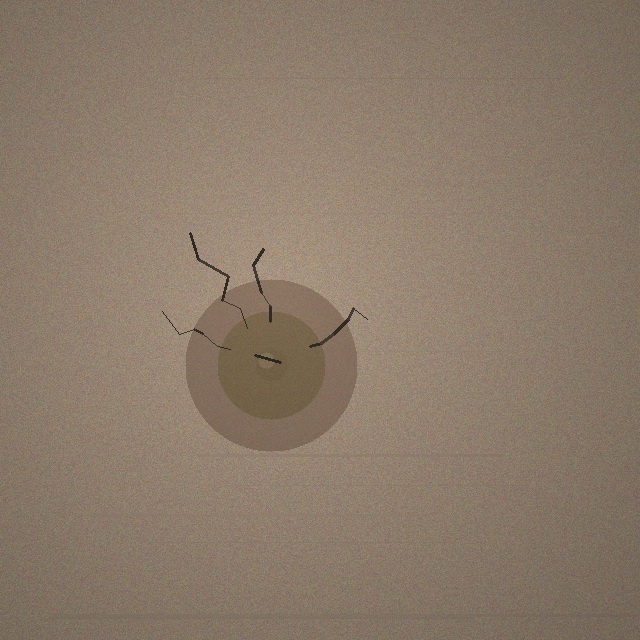crack: (185, 279, 357, 451)
